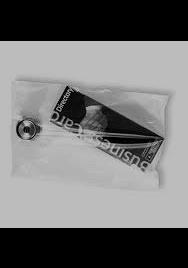Plastic: (0, 80, 175, 195)
